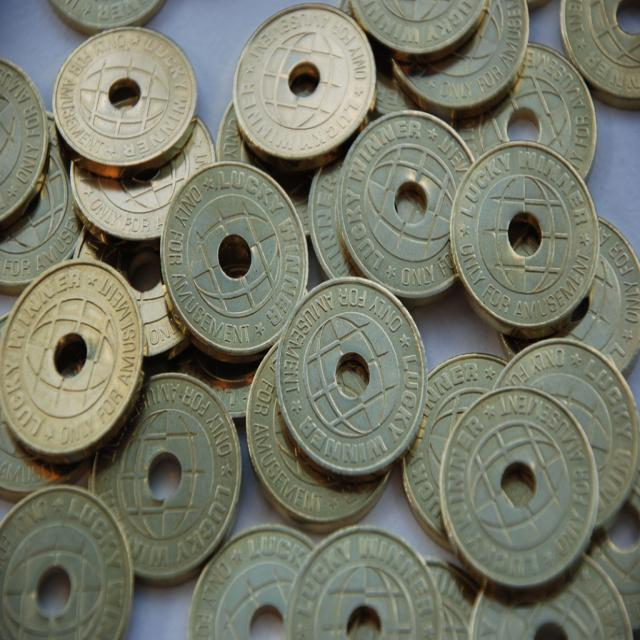Coin: (85, 373, 246, 592), (435, 383, 596, 593), (274, 272, 426, 481), (157, 161, 308, 368), (447, 136, 600, 334), (491, 336, 640, 539), (0, 258, 146, 461), (242, 338, 394, 532), (338, 106, 476, 305), (234, 2, 378, 173), (400, 350, 512, 557), (494, 204, 639, 363), (49, 26, 198, 177), (0, 481, 134, 639), (67, 108, 214, 251), (449, 41, 594, 183), (282, 520, 443, 639), (213, 96, 338, 241), (0, 307, 92, 502), (390, 0, 528, 123), (184, 522, 316, 639), (0, 112, 82, 298), (72, 234, 185, 359), (469, 555, 633, 639), (558, 0, 640, 112), (344, 0, 488, 61), (586, 476, 640, 633), (0, 57, 48, 228), (168, 339, 266, 419), (306, 153, 361, 280), (422, 552, 480, 639), (46, 0, 165, 35), (374, 42, 427, 114)
